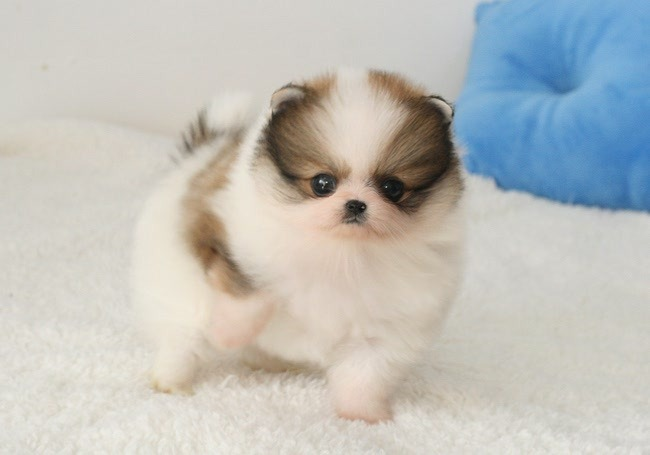pomeranian: (133, 77, 497, 424)
